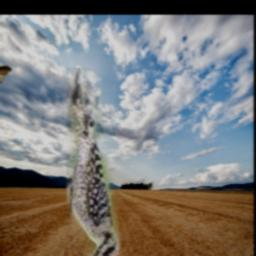Swallow: (0, 63, 13, 85)
Woodpecker: (68, 68, 120, 256)
